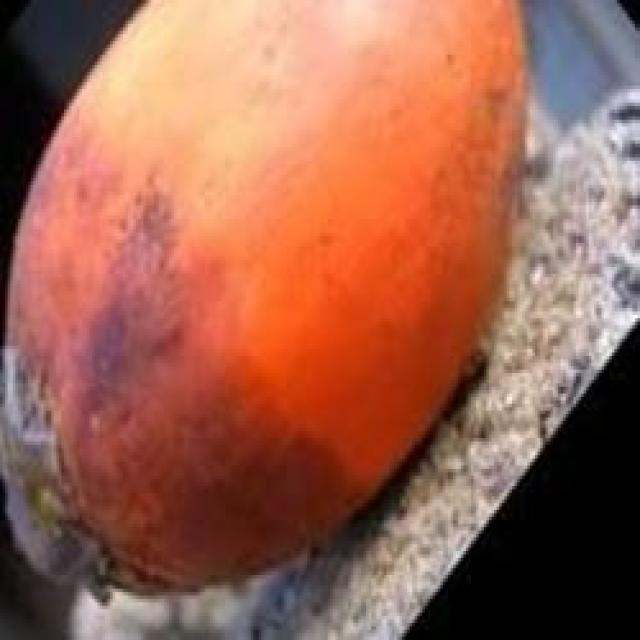good: (3, 0, 527, 596)
